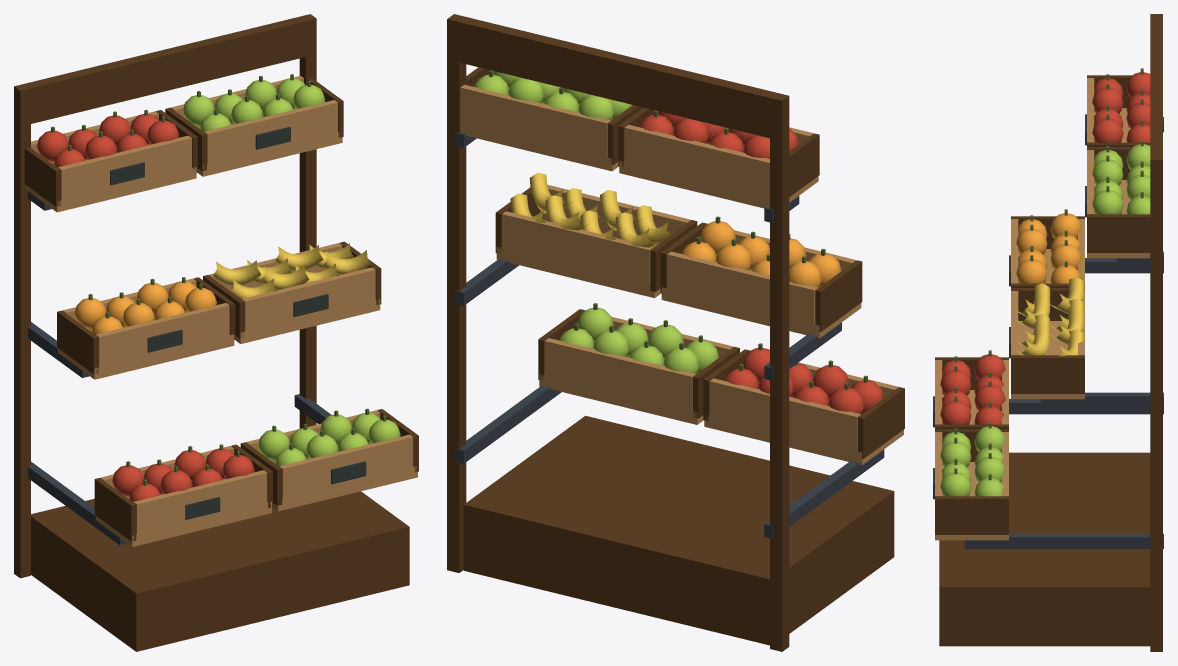
Rendered from shelf-fruit-tiered.glb.
3 renders of one model, left to right at view 1: azimuth 30°, elevation 25°; view 2: azimuth 150°, elevation 25°; view 3: azimuth 270°, elevation 25°, orthographic. The views are drawn at different scales.
Parts seen in each view (by area): view 1: fruit-plinth, fruit-bin-lip (×7), fruit-end-post (×2), fruit-header, fruit-bin-floor (×6), stock-produce_c64732, stock-produce_a5c94e, fruit-bin-side (×6), stock-bananas_eac64e, stock-produce_f0a13a, stock-details_343d39, fruit-tier-bracket (×2) (+1 smaller); view 2: fruit-plinth, fruit-bin-lip (×7), fruit-end-post (×2), fruit-header, fruit-bin-floor (×6), fruit-bin-side (×9), stock-produce_a5c94e, stock-produce_c64732, fruit-tier-bracket (×4), stock-bananas_eac64e, stock-produce_f0a13a, stock-details_5c7138; view 3: fruit-plinth, fruit-bin-side (×10), stock-produce_a5c94e, stock-produce_c64732, fruit-end-post, fruit-tier-bracket (×4), fruit-bin-lip (×9), stock-produce_f0a13a, stock-bananas_eac64e, fruit-bin-floor (×3), fruit-header, stock-details_5c7138 (+1 smaller).
Part boxes in pixels (bbox=[...]): fruit-plinth: bbox=[31, 491, 409, 651]; fruit-bin-lip (×7): bbox=[58, 100, 413, 540]; fruit-end-post (×2): bbox=[14, 14, 316, 578]; fruit-header: bbox=[25, 16, 305, 123]; fruit-bin-floor (×6): bbox=[25, 132, 417, 546]; stock-produce_c64732: bbox=[37, 113, 254, 501]; stock-produce_a5c94e: bbox=[182, 78, 400, 466]; fruit-bin-side (×6): bbox=[24, 107, 282, 541]; stock-bananas_eac64e: bbox=[213, 243, 371, 299]; stock-produce_f0a13a: bbox=[74, 281, 216, 334]; stock-details_343d39: bbox=[110, 126, 366, 519]; fruit-tier-bracket (×2): bbox=[28, 322, 126, 545]; fruit-plinth: bbox=[463, 415, 894, 645]; fruit-bin-lip (×7): bbox=[460, 84, 860, 450]; fruit-end-post (×2): bbox=[447, 14, 789, 651]; fruit-header: bbox=[459, 17, 776, 138]; fruit-bin-floor (×6): bbox=[460, 121, 903, 465]; fruit-bin-side (×9): bbox=[538, 105, 904, 458]; stock-produce_a5c94e: bbox=[474, 71, 719, 374]; stock-produce_c64732: bbox=[639, 111, 884, 414]; fruit-tier-bracket (×4): bbox=[455, 258, 884, 538]; stock-bananas_eac64e: bbox=[510, 173, 670, 247]; stock-produce_f0a13a: bbox=[682, 221, 841, 287]; stock-details_5c7138: bbox=[489, 70, 867, 389]; fruit-plinth: bbox=[939, 452, 1150, 646]; fruit-bin-side (×10): bbox=[935, 75, 1150, 534]; stock-produce_a5c94e: bbox=[940, 144, 1150, 496]; stock-produce_c64732: bbox=[940, 72, 1150, 424]; fruit-end-post: bbox=[1150, 154, 1162, 651]; fruit-tier-bracket (×4): bbox=[964, 258, 1163, 548]; fruit-bin-lip (×9): bbox=[935, 78, 1094, 496]; stock-produce_f0a13a: bbox=[1016, 213, 1081, 283]; stock-bananas_eac64e: bbox=[1015, 277, 1084, 356]; fruit-bin-floor (×3): bbox=[935, 180, 1150, 540]; fruit-header: bbox=[1150, 19, 1162, 154]; stock-details_5c7138: bbox=[954, 68, 1143, 480].
Size of the model in its own units: 0.955 by 1.5 by 0.6375.
